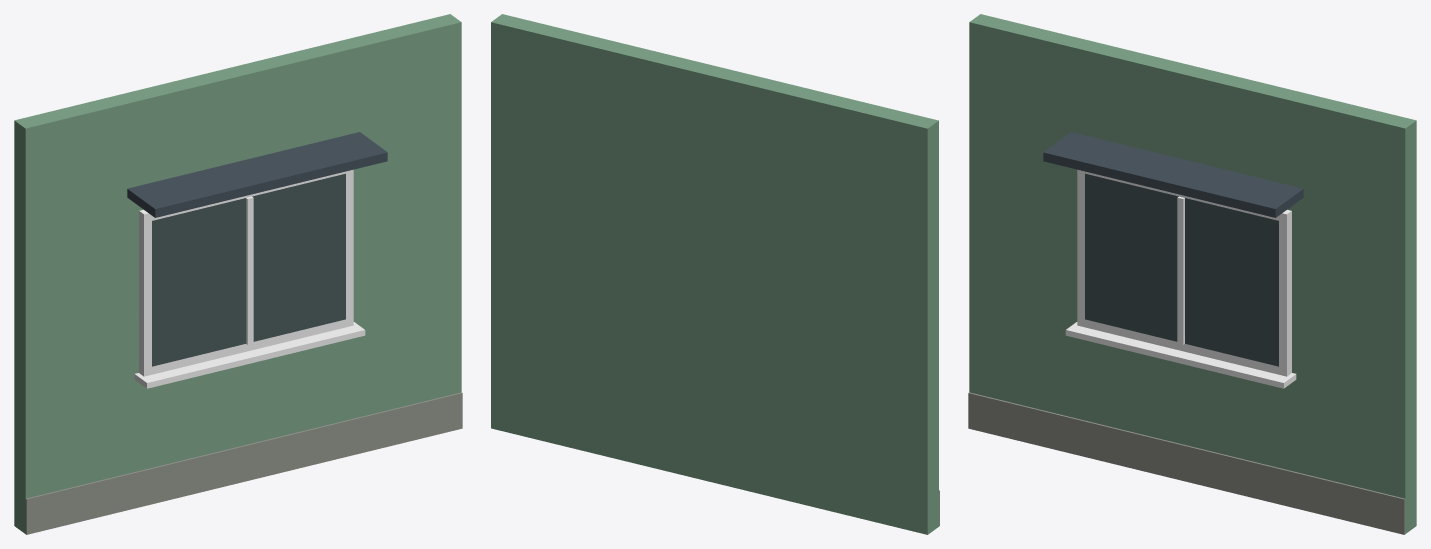
The model's file is mid-w1.fbx.
The picture shows the model from 3 angles, left to right: view 1: azimuth 30°, elevation 25°; view 2: azimuth 150°, elevation 25°; view 3: azimuth 330°, elevation 25°; orthographic projection.
Visible parts, largest first — view 1: a2014/500/mid-w1; view 2: a2014/500/mid-w1; view 3: a2014/500/mid-w1.
Part boxes in pixels (box(x1,y1,x2,y2)): a2014/500/mid-w1: box(14, 14, 462, 534); a2014/500/mid-w1: box(491, 14, 939, 534); a2014/500/mid-w1: box(968, 14, 1416, 534).
Size of the model in its own units: 3.6 by 3.2 by 0.56.
